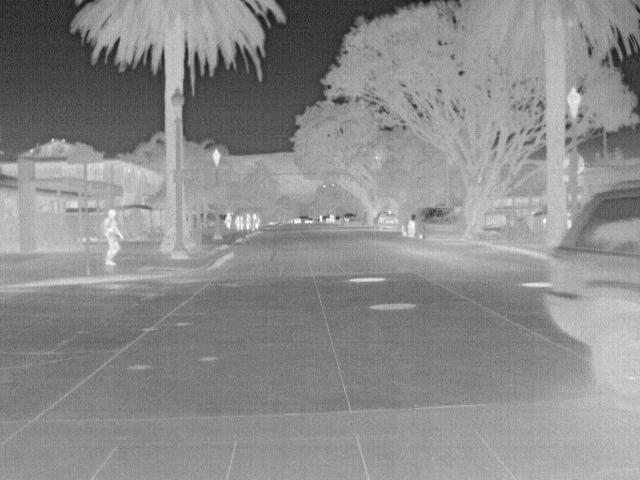car: (545, 176, 640, 412), (403, 205, 466, 242), (373, 210, 402, 231), (342, 212, 362, 225)
person: (100, 207, 127, 266), (223, 209, 236, 232), (250, 212, 262, 229), (244, 211, 253, 231), (238, 214, 245, 232), (234, 213, 240, 232)
